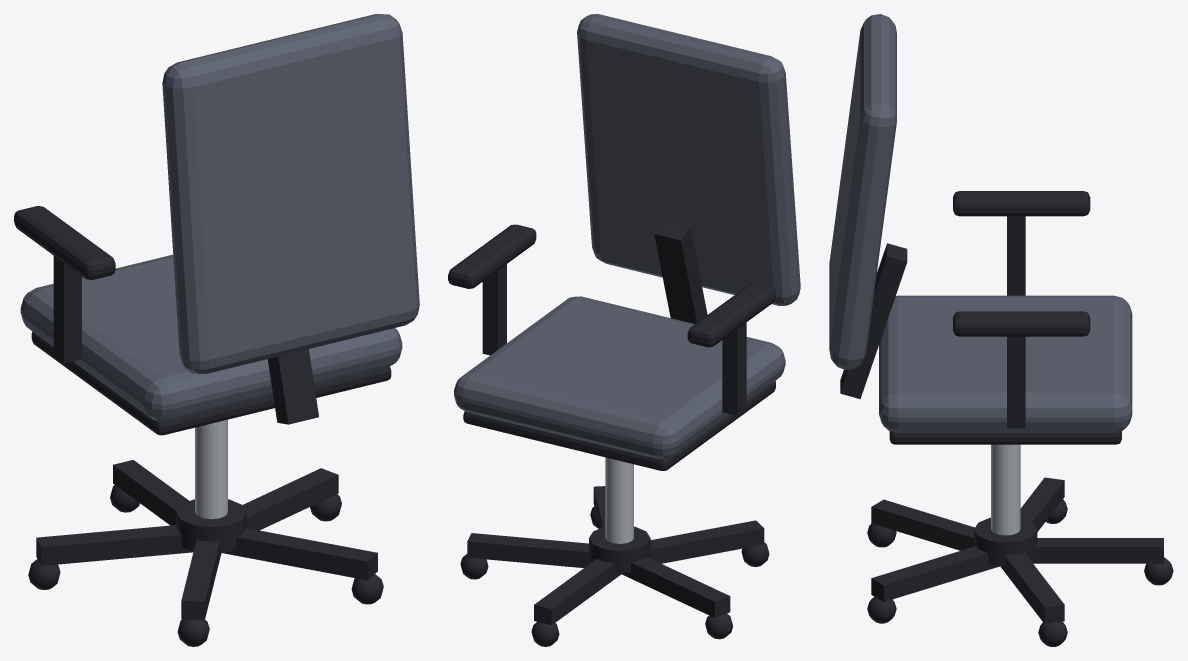
The model's file is chair.glb.
The picture shows the model from 3 angles, left to right: view 1: azimuth 30°, elevation 25°; view 2: azimuth 150°, elevation 25°; view 3: azimuth 270°, elevation 25°; orthographic projection. The views are drawn at different scales.
Visible parts, largest first — view 1: Chair; view 2: Chair; view 3: Chair.
Boxes of the visible parts, x1,y1,x2,y2 form: Chair: (14, 14, 419, 646); Chair: (448, 14, 800, 646); Chair: (829, 14, 1173, 646).
Bounding box in the file's own units: 0.6049 × 1.1 × 0.6521.
